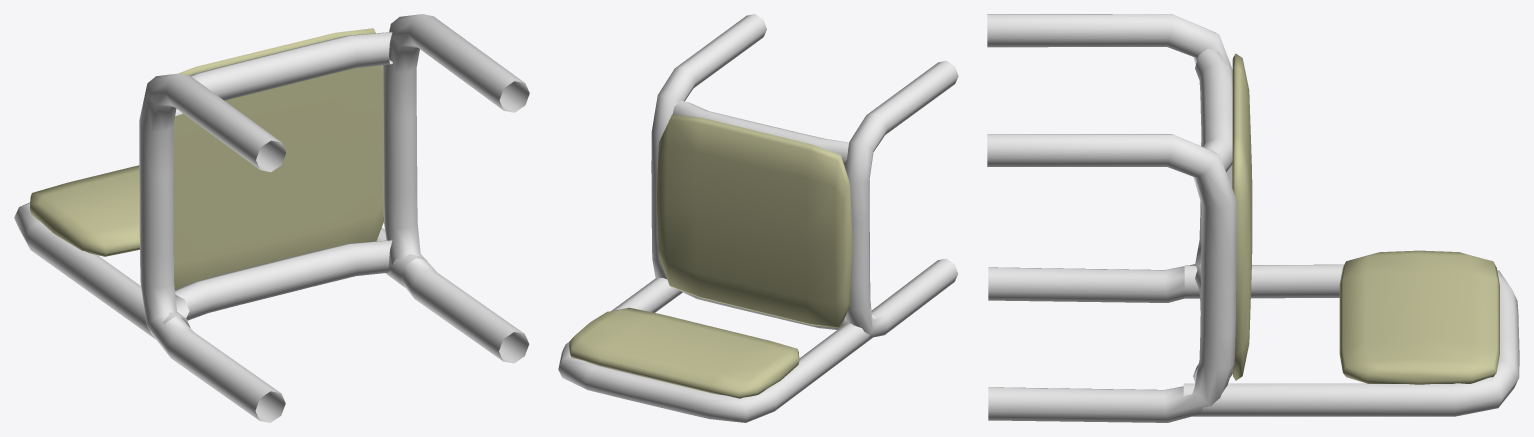
The picture shows the model from 3 angles, left to right: view 1: azimuth 30°, elevation 25°; view 2: azimuth 150°, elevation 25°; view 3: azimuth 270°, elevation 25°; orthographic projection. The views are drawn at different scales.
Parts seen in each view (by area): view 1: Cube.002; view 2: Cube.002; view 3: Cube.002.
Boxes of the visible parts, <box> form: Cube.002: <box>14,14,529,422</box>; Cube.002: <box>558,14,958,422</box>; Cube.002: <box>987,14,1519,422</box>.
Size of the model in its own units: 35.38 by 35.22 by 59.02.
